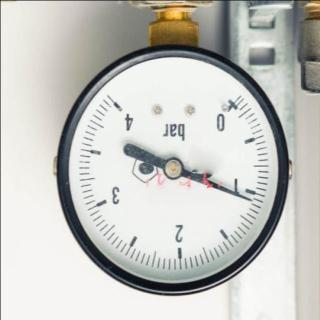gauge: (47, 28, 293, 312), (212, 90, 246, 134), (107, 94, 133, 124), (162, 157, 184, 180), (243, 195, 256, 205)
